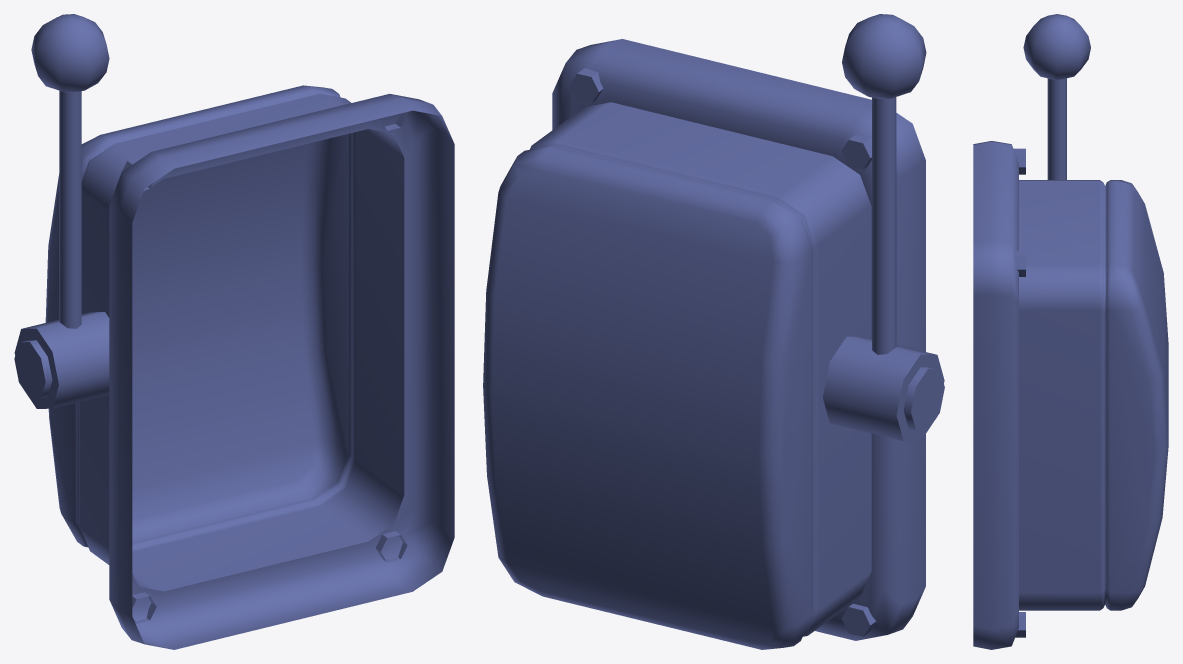
The model's file is Switch.fbx.
3 views of the same model, side by side, from view 1: azimuth 30°, elevation 25°; view 2: azimuth 150°, elevation 25°; view 3: azimuth 270°, elevation 25° (orthographic). The views are drawn at different scales.
Parts seen in each view (by area): view 1: Box, Lever; view 2: Box, Lever; view 3: Box, Lever.
Part boxes in pixels (x1,y1,x2,y2): Box: (14,85,454,649); Lever: (31,14,109,328); Box: (483,39,944,649); Lever: (842,14,926,354); Box: (973,141,1168,649); Lever: (1023,14,1090,179).
Bounding box in the file's own units: 94.32 × 146 × 50.69.
